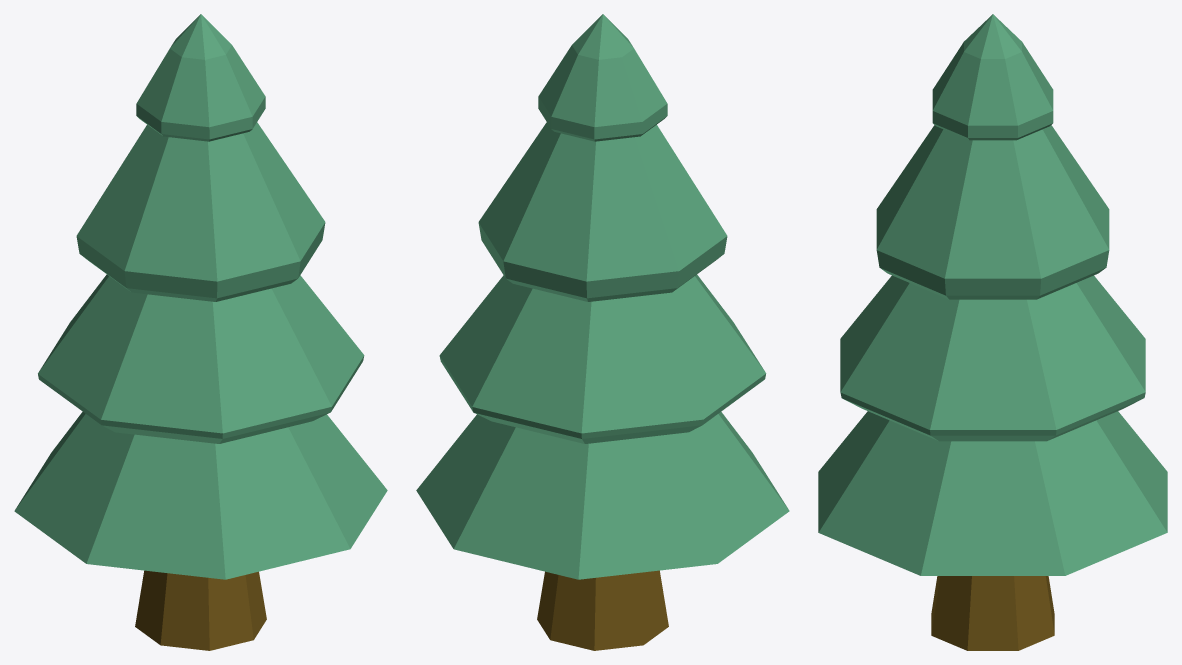
Rendered from tree2.glb.
3 views of the same model, side by side, from view 1: azimuth 30°, elevation 25°; view 2: azimuth 150°, elevation 25°; view 3: azimuth 270°, elevation 25° (orthographic).
Parts seen in each view (by area): view 1: Tree2; view 2: Tree2; view 3: Tree2.
Part boxes in pixels (<box>): Tree2: <box>14,14,387,650</box>; Tree2: <box>416,14,789,650</box>; Tree2: <box>818,14,1167,650</box>.
Bounding box in the file's own units: 2.87 × 5.54 × 2.87.
